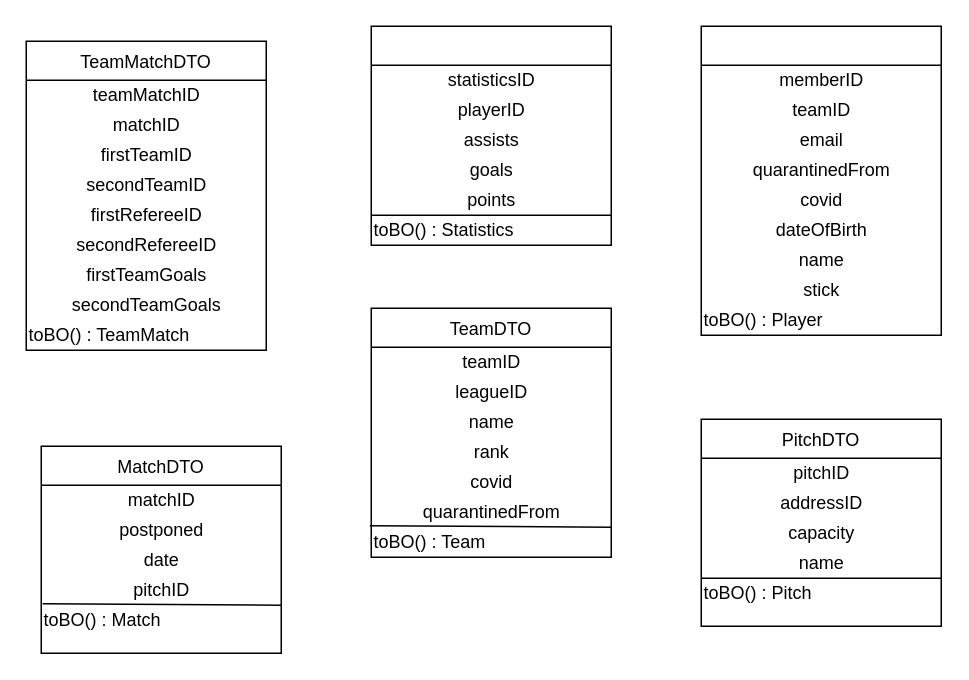
The diagram is 969 pixels wide and 680 high, and some of its shapes have lost their labels. The shapes that lost their labels are listed below. From the top down, each one's box as (x1, y1, x2, y2) in pixels, then its label:
(370, 25, 611, 245): StatisticsDTO
(700, 25, 941, 335): PlayerDTO
